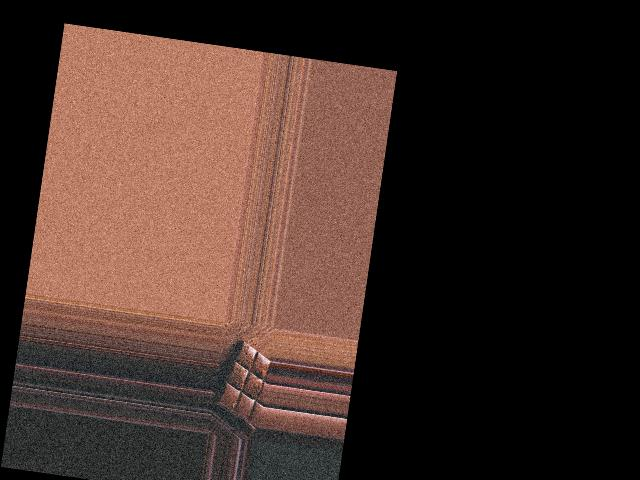chocolate: (213, 334, 272, 428)
